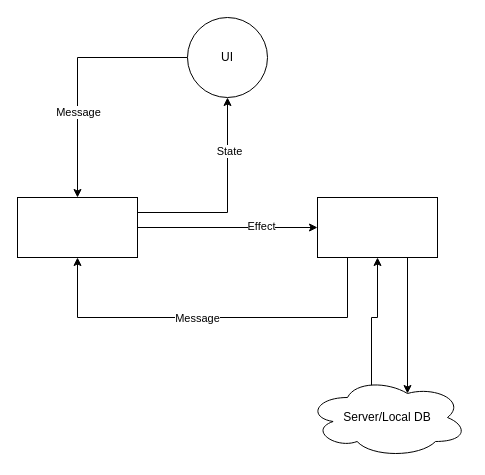
Image size: 485x475. Some labels were removed from this diagram. The centre of each missing label's shape, as x and y in pixels:
Effect Handler: (377,227)
Reducer: (77,227)
